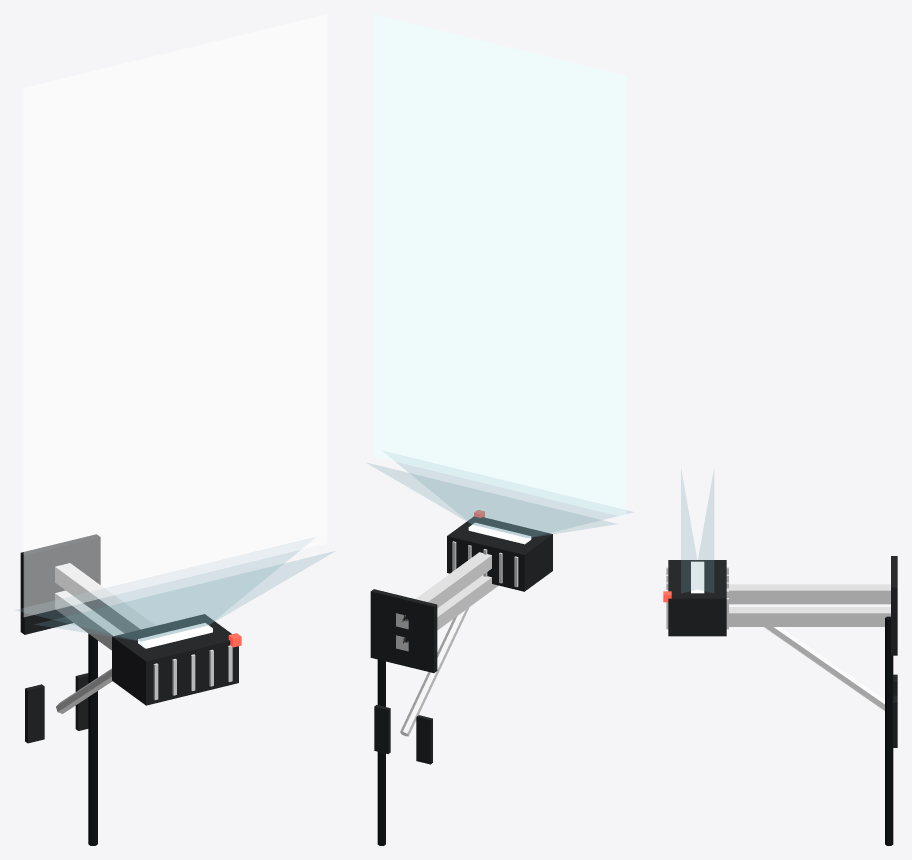
The model's file is holo_wall.gltf.
The picture shows the model from 3 angles, left to right: view 1: azimuth 30°, elevation 25°; view 2: azimuth 150°, elevation 25°; view 3: azimuth 270°, elevation 25°; orthographic projection. The views are drawn at different scales.
Parts seen in each view (by area): view 1: holo, graphite, beam, steel, detail_dark, detail_graphite, detail_steel, lens; view 2: holo, graphite, beam, steel, detail_graphite, detail_dark, lens, detail_steel; view 3: steel, graphite, beam, detail_dark, lens.
Boxes of the visible parts, left/top/right/bottom form: holo: left=23, top=14, right=327, bottom=617; graphite: left=20, top=534, right=238, bottom=705; beam: left=15, top=550, right=334, bottom=641; steel: left=55, top=563, right=155, bottom=713; detail_dark: left=88, top=578, right=97, bottom=845; detail_graphite: left=25, top=673, right=88, bottom=743; detail_steel: left=153, top=645, right=232, bottom=700; lens: left=138, top=623, right=212, bottom=648; holo: left=373, top=14, right=626, bottom=517; graphite: left=370, top=516, right=552, bottom=672; beam: left=367, top=462, right=632, bottom=537; steel: left=396, top=552, right=498, bottom=736; detail_graphite: left=374, top=705, right=432, bottom=764; detail_dark: left=377, top=659, right=385, bottom=845; lens: left=468, top=522, right=531, bottom=544; detail_steel: left=452, top=541, right=518, bottom=587; steel: left=726, top=584, right=890, bottom=710; graphite: left=668, top=556, right=897, bottom=655; beam: left=681, top=470, right=713, bottom=592; detail_dark: left=885, top=616, right=893, bottom=845; lens: left=691, top=561, right=704, bottom=593.
Size of the model in its own units: 3.6 by 10 by 2.81.
